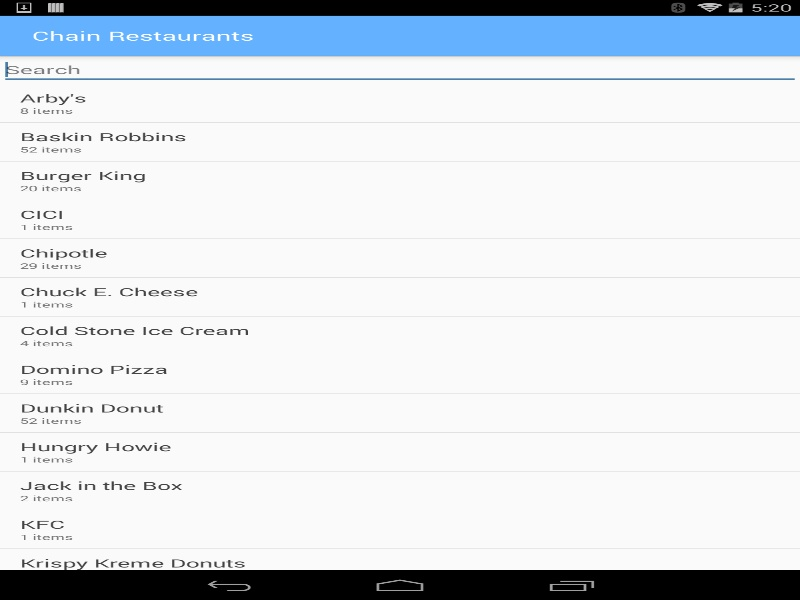Input: (0, 55, 800, 84)
